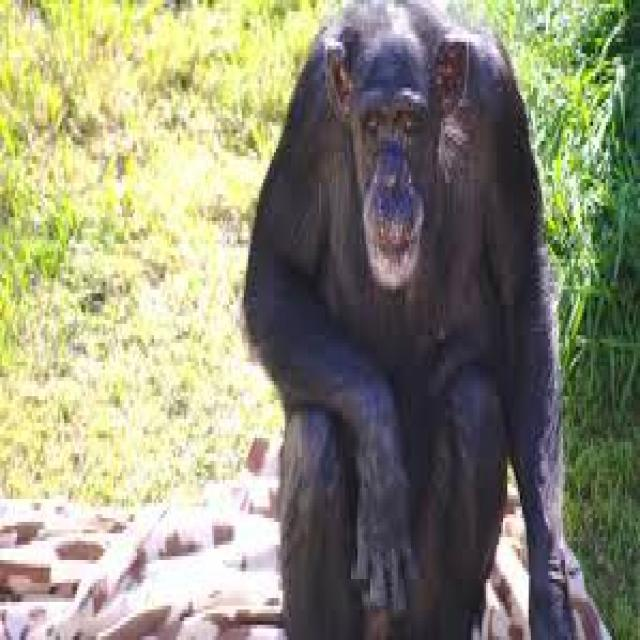chimpanzee: (242, 0, 601, 636)
